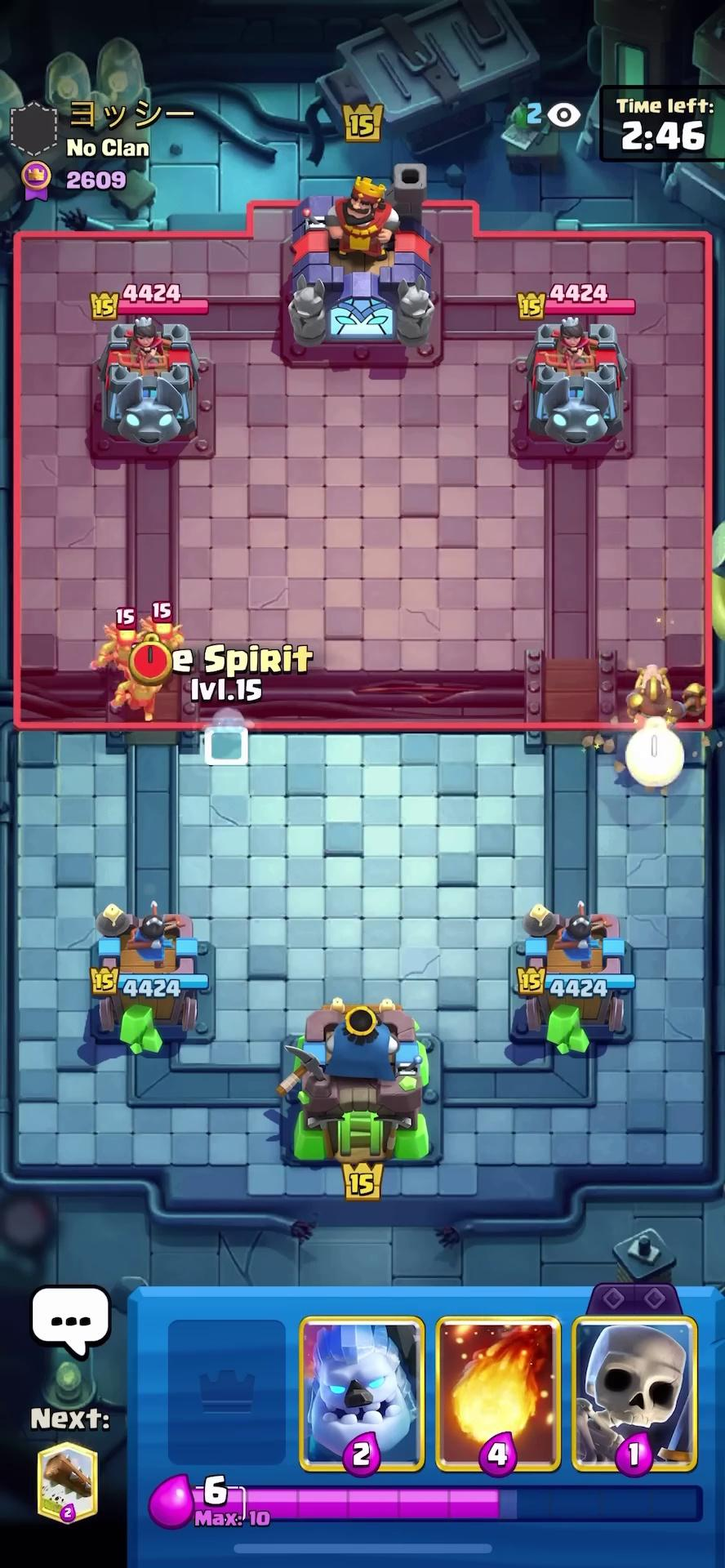hog_rider: (612, 657, 688, 747)
